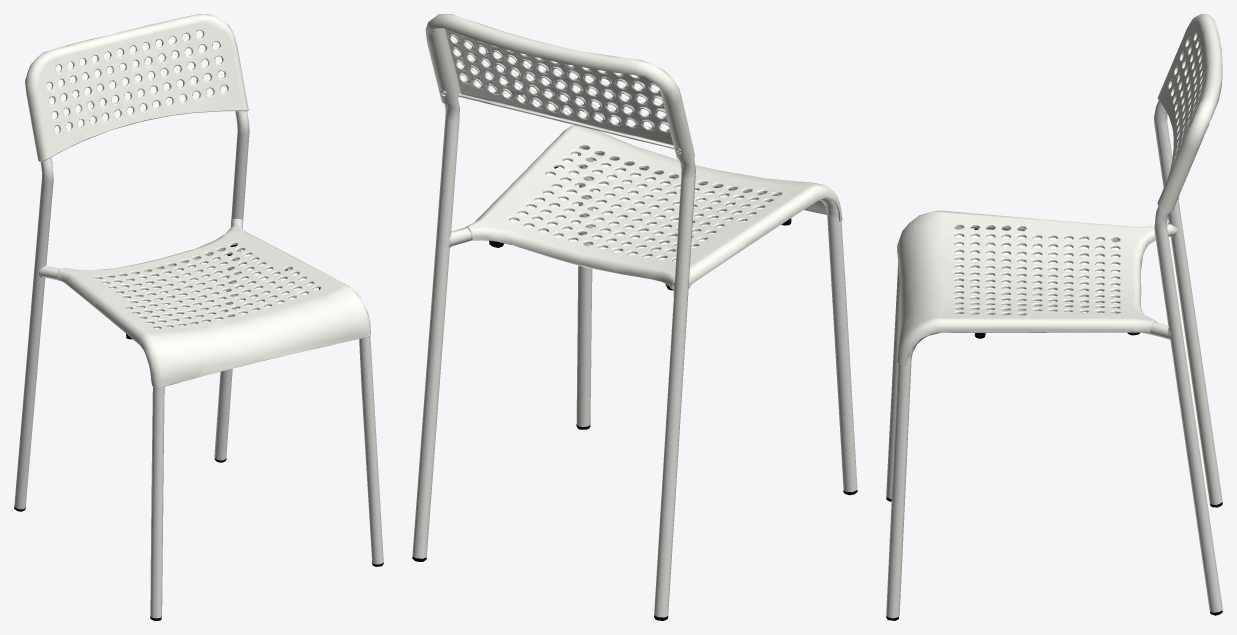
File: sandsberg_chair_white.glb
The picture shows the model from 3 angles, left to right: view 1: azimuth 30°, elevation 25°; view 2: azimuth 150°, elevation 25°; view 3: azimuth 270°, elevation 25°; orthographic projection. The views are drawn at different scales.
Visible parts, largest first — view 1: ASY_ART_10605424_S01_NV01; view 2: ASY_ART_10605424_S01_NV01; view 3: ASY_ART_10605424_S01_NV01.
Boxes of the visible parts, x1,y1,x2,y2 form: ASY_ART_10605424_S01_NV01: [14, 14, 383, 620]; ASY_ART_10605424_S01_NV01: [412, 14, 857, 620]; ASY_ART_10605424_S01_NV01: [886, 14, 1222, 620].
Size of the model in its own units: 0.4158 by 0.7802 by 0.4738.
1 material, 1 textured.
